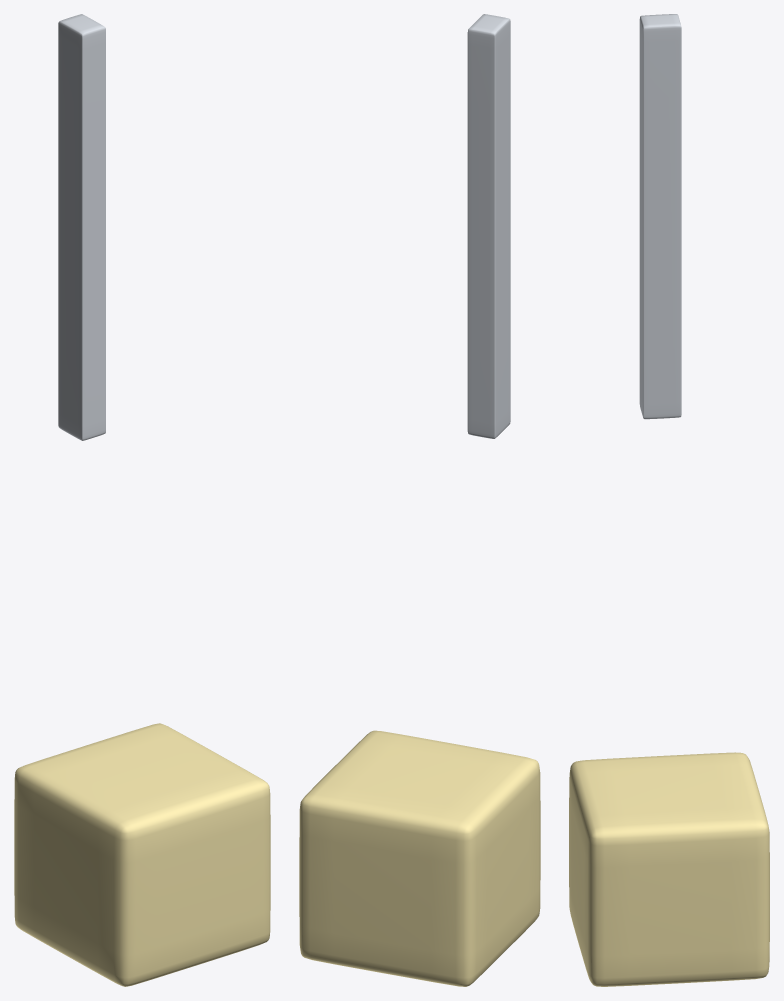
The model's file is PROP_Stroller_v2.glb.
The picture shows the model from 3 angles, left to right: view 1: azimuth 30°, elevation 25°; view 2: azimuth 150°, elevation 25°; view 3: azimuth 270°, elevation 25°; orthographic projection. The views are drawn at different scales.
Visible parts, largest first — view 1: PROP_Stroller_v2; view 2: PROP_Stroller_v2; view 3: PROP_Stroller_v2.
Boxes of the visible parts, x1,y1,x2,y2 form: PROP_Stroller_v2: [14, 14, 270, 986]; PROP_Stroller_v2: [299, 14, 540, 986]; PROP_Stroller_v2: [569, 14, 769, 986].
Bounding box in the file's own units: 1.12 × 5.51 × 1.12.
